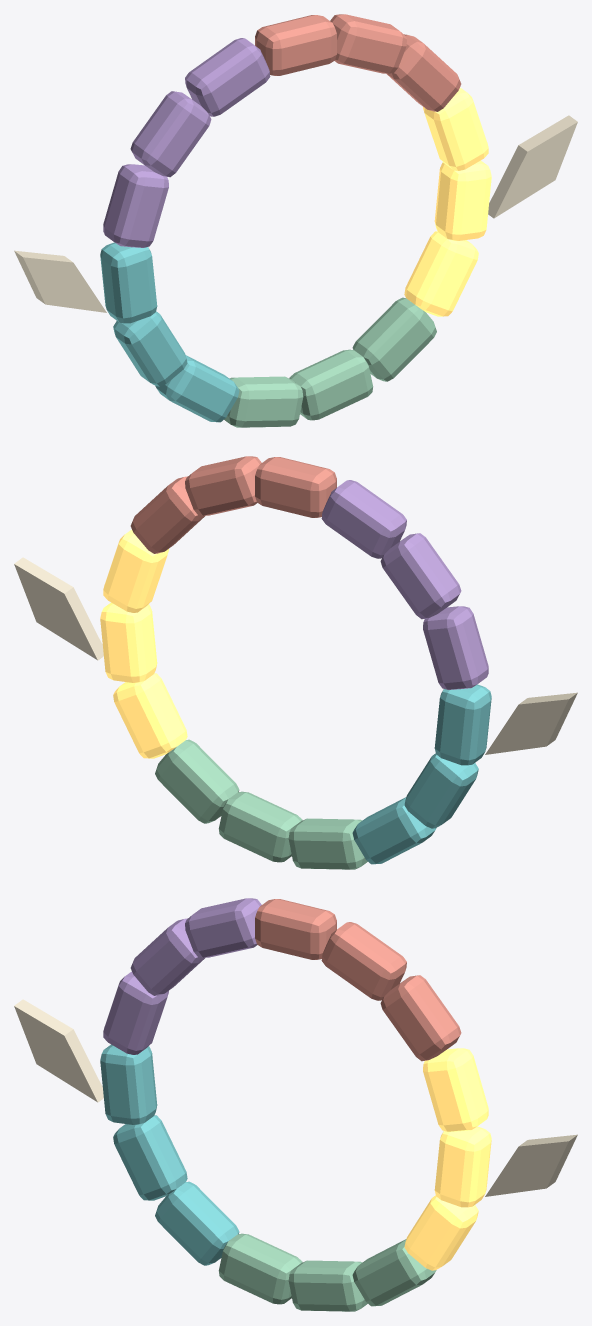
Rendered from ember_home_ring.glb.
3 renders of one model, top to bottom at view 1: azimuth 30°, elevation 25°; view 2: azimuth 150°, elevation 25°; view 3: azimuth 330°, elevation 25°, orthographic.
Visible parts, largest first — view 1: RainbowSegment_13, RainbowSegment_14, RainbowSegment_12, RainbowSegment_06, RainbowSegment_05, ShellFin.001, RainbowSegment_07, RainbowSegment_00, RainbowSegment_11, RainbowSegment_04, RainbowSegment_08, RainbowSegment_01 (+5 smaller); view 2: RainbowSegment_13, RainbowSegment_14, RainbowSegment_12, RainbowSegment_06, RainbowSegment_05, ShellFin.001, RainbowSegment_07, RainbowSegment_00, RainbowSegment_11, RainbowSegment_04, RainbowSegment_08, RainbowSegment_01 (+5 smaller); view 3: RainbowSegment_02, RainbowSegment_01, RainbowSegment_03, RainbowSegment_09, RainbowSegment_10, ShellFin, RainbowSegment_08, RainbowSegment_00, RainbowSegment_04, RainbowSegment_11, RainbowSegment_07, RainbowSegment_14 (+5 smaller).
Boxes of the visible parts, x1,y1,x2,y2 form: RainbowSegment_13: (130, 91, 211, 177); RainbowSegment_14: (185, 38, 270, 116); RainbowSegment_12: (103, 164, 168, 247); RainbowSegment_06: (352, 297, 436, 381); RainbowSegment_05: (404, 231, 478, 316); ShellFin.001: (488, 115, 577, 218); RainbowSegment_07: (289, 349, 373, 420); RainbowSegment_00: (255, 15, 336, 75); RainbowSegment_11: (100, 242, 157, 323); RainbowSegment_04: (434, 160, 491, 240); RainbowSegment_08: (224, 376, 303, 427); RainbowSegment_01: (330, 14, 406, 73); RainbowSegment_13: (380, 533, 461, 619); RainbowSegment_14: (321, 480, 406, 558); RainbowSegment_12: (423, 606, 488, 689); RainbowSegment_06: (155, 739, 239, 823); RainbowSegment_05: (113, 673, 187, 758); ShellFin.001: (14, 557, 103, 660); RainbowSegment_07: (218, 791, 302, 862); RainbowSegment_00: (255, 457, 336, 517); RainbowSegment_11: (434, 684, 491, 765); RainbowSegment_04: (100, 602, 157, 682); RainbowSegment_08: (288, 818, 367, 869); RainbowSegment_01: (185, 456, 261, 515); RainbowSegment_02: (380, 975, 461, 1061); RainbowSegment_01: (321, 922, 406, 1000); RainbowSegment_03: (423, 1048, 488, 1131); RainbowSegment_09: (155, 1181, 239, 1265); RainbowSegment_10: (113, 1115, 187, 1200); ShellFin: (14, 999, 103, 1102); RainbowSegment_08: (218, 1233, 302, 1304); RainbowSegment_00: (255, 899, 336, 959); RainbowSegment_04: (434, 1126, 491, 1207); RainbowSegment_11: (100, 1044, 157, 1124); RainbowSegment_07: (288, 1260, 367, 1311); RainbowSegment_14: (185, 898, 261, 957).
Bounding box in the file's own units: 9.9 × 6.74 × 0.65.
